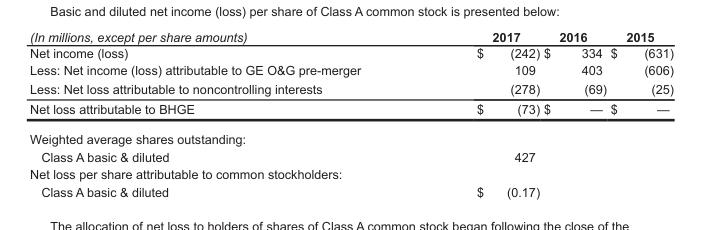table: (29, 29, 672, 198)
table column: (29, 29, 418, 198), (418, 29, 541, 198), (541, 29, 607, 198), (607, 29, 672, 198)
table column header: (29, 29, 672, 44)
table projected row header: (29, 123, 672, 147), (29, 164, 672, 182)
table row: (29, 98, 672, 123), (29, 123, 672, 147), (29, 79, 672, 98), (29, 61, 672, 79), (29, 164, 672, 182), (29, 44, 672, 61), (29, 147, 672, 164), (29, 182, 672, 198), (29, 29, 672, 44)
